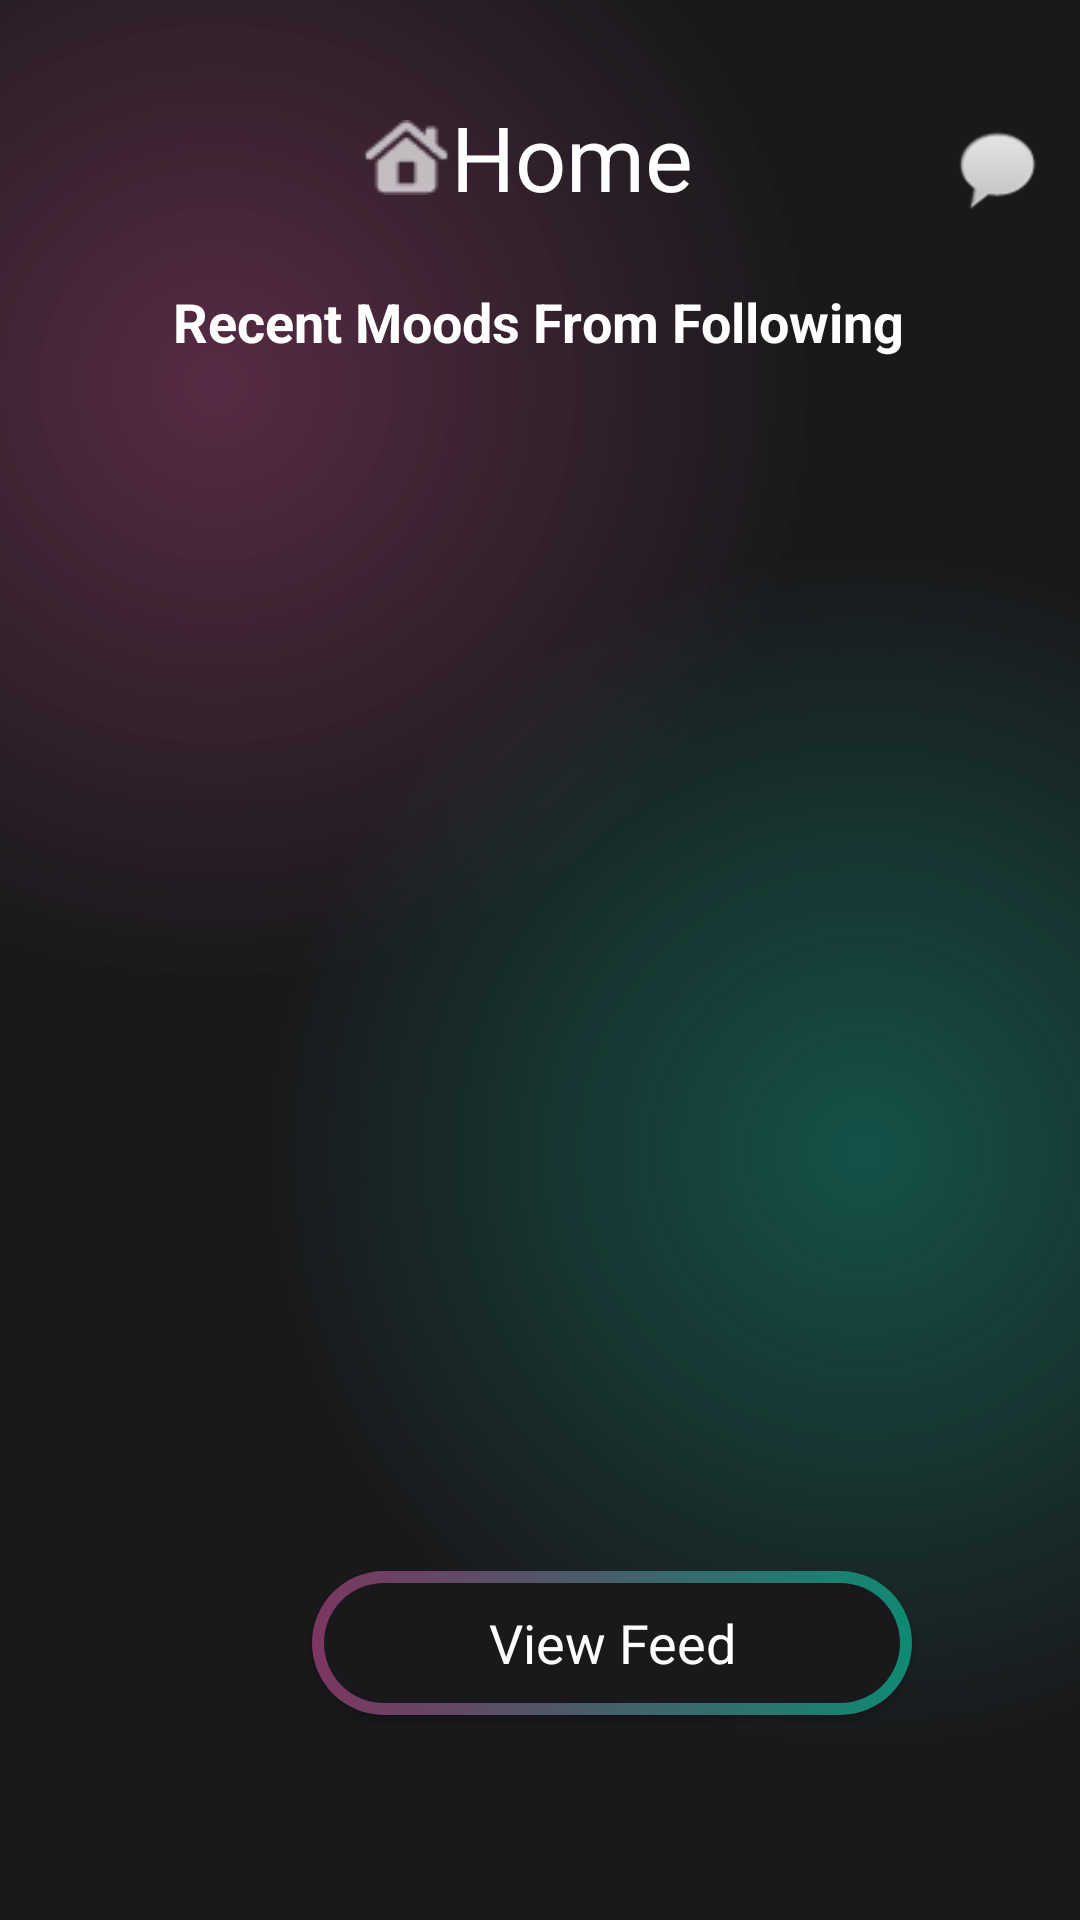

Icons on this 1080 x 1920 Android screen, each with its box as (x1, y1, x2, y2):
sym action chat: (960, 132, 1035, 208)
